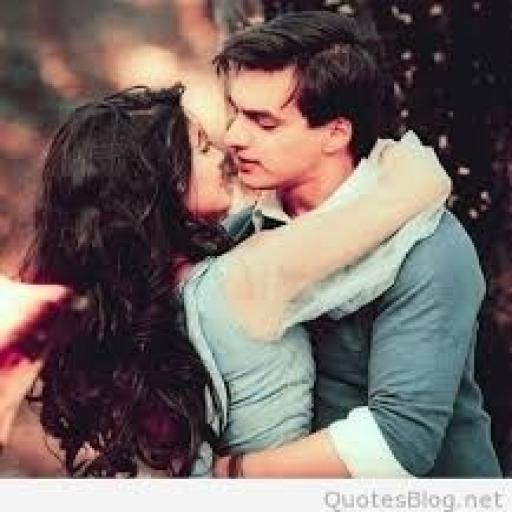hugging: (0, 9, 503, 479)
